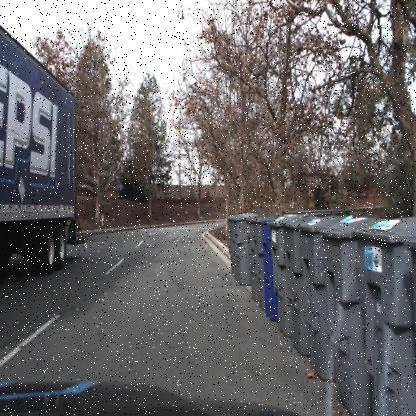truck: (0, 22, 85, 271)
